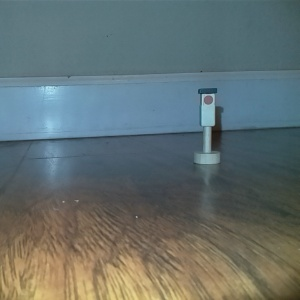traffic light red: (193, 85, 222, 165)
